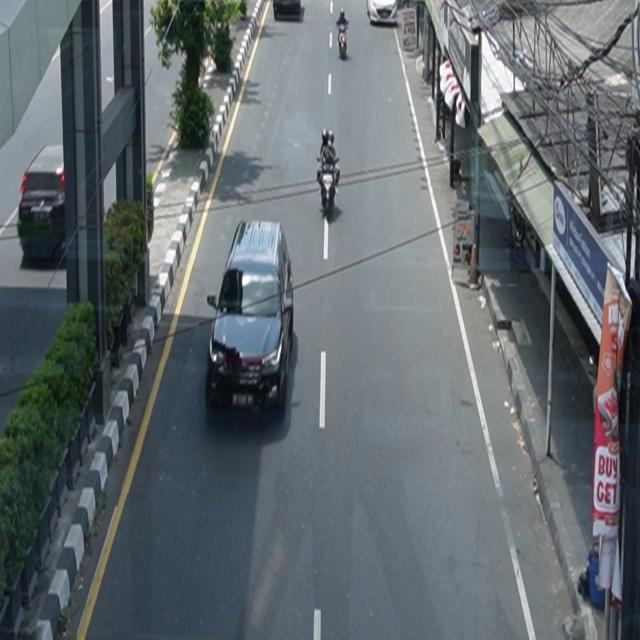car: (206, 219, 295, 416), (18, 144, 67, 263), (367, 1, 398, 26), (274, 1, 303, 21)
